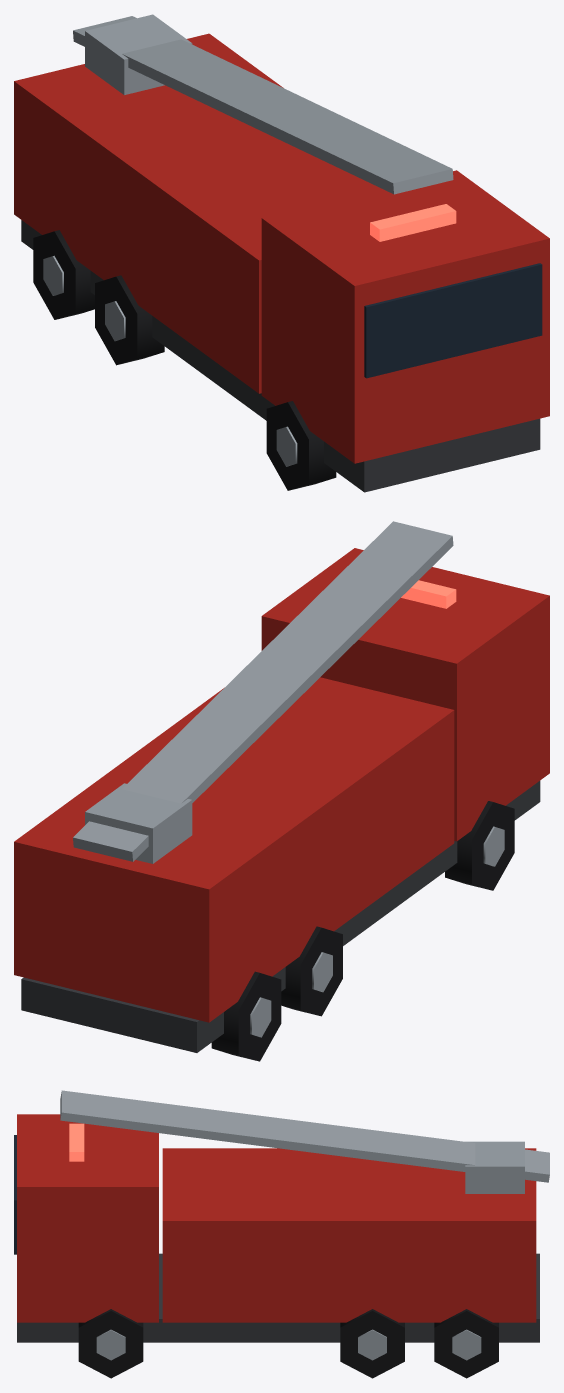
Rendered from veh_ground_fire_truck_a07_lod1.glb.
3 renders of one model, top to bottom at view 1: azimuth 30°, elevation 25°; view 2: azimuth 150°, elevation 25°; view 3: azimuth 270°, elevation 25°, orthographic. The views are drawn at different scales.
Visible parts, largest first — view 1: body, ladder, wheel_4, wheel_2, wheel_0; view 2: body, ladder, wheel_0, wheel_4, wheel_2; view 3: body, ladder, wheel_5, wheel_1, wheel_3.
Part boxes in pixels (x1,y1,x2,y2): body: (14,33,549,492); ladder: (73,14,453,194); wheel_4: (266,401,336,490); wheel_2: (95,275,164,365); wheel_0: (33,230,94,319); body: (14,548,549,1052); ladder: (73,521,453,863); wheel_0: (211,971,281,1061); wheel_4: (445,801,514,890); wheel_2: (281,926,342,1016); body: (14,1114,539,1342); ladder: (60,1090,549,1193); wheel_5: (78,1309,143,1378); wheel_1: (434,1309,498,1378); wheel_3: (340,1309,404,1378).
Bounding box in the file's own units: 2.46 × 3.53 × 7.17.
